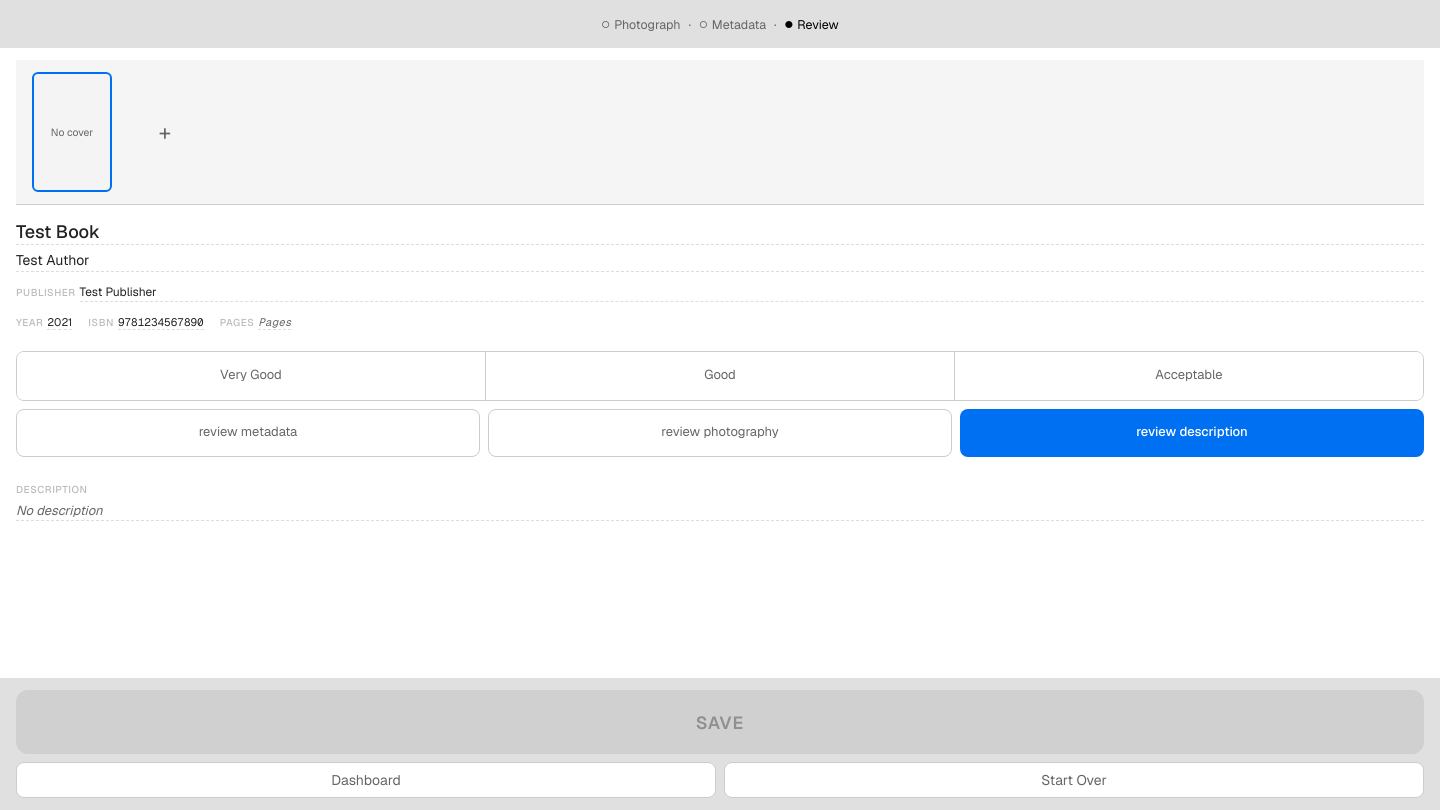
Scenario: ReviewStep › SAVE button is enabled after selecting a condition
The image size is (1440, 810).
Click the button "Good" at (720, 376), box [485,352,954,400]
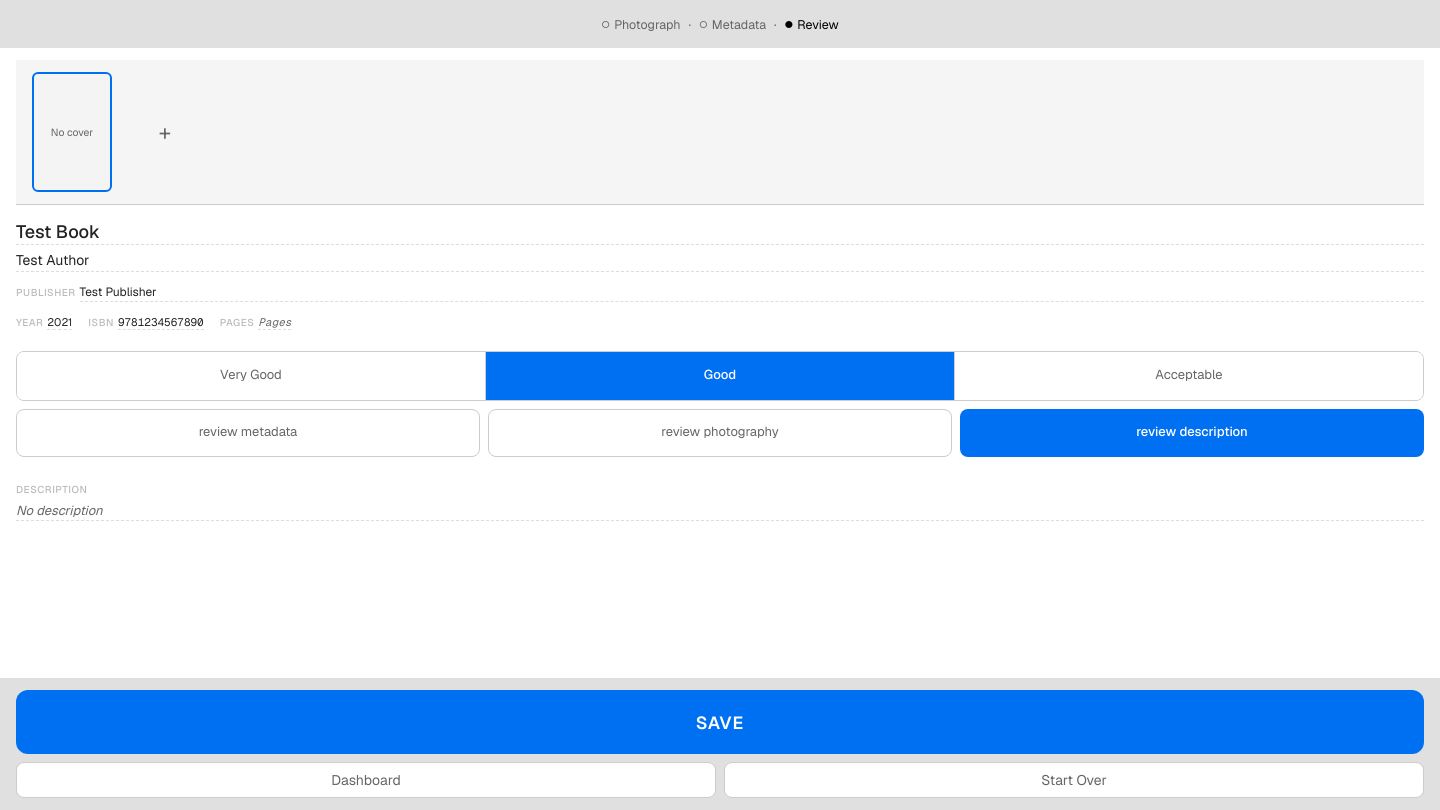
Now the button "SAVE" is enabled, box [16,690,1424,754]
